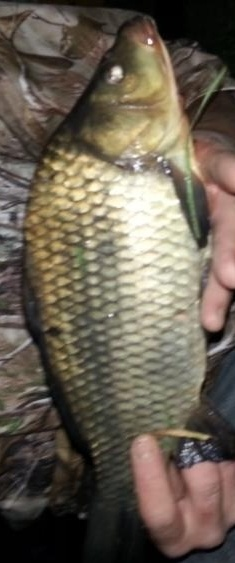Carassius carassius: (20, 14, 215, 543)
